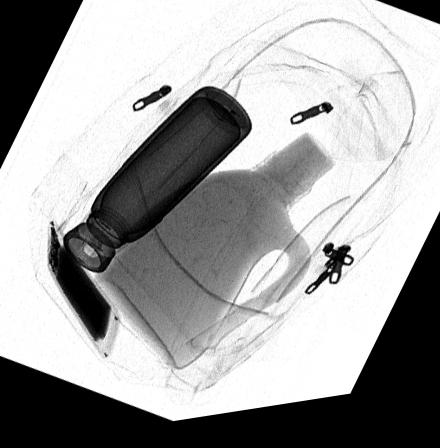Powerbank: (45, 223, 120, 361)
